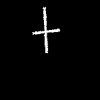single_crochet: (33, 7, 59, 52)
